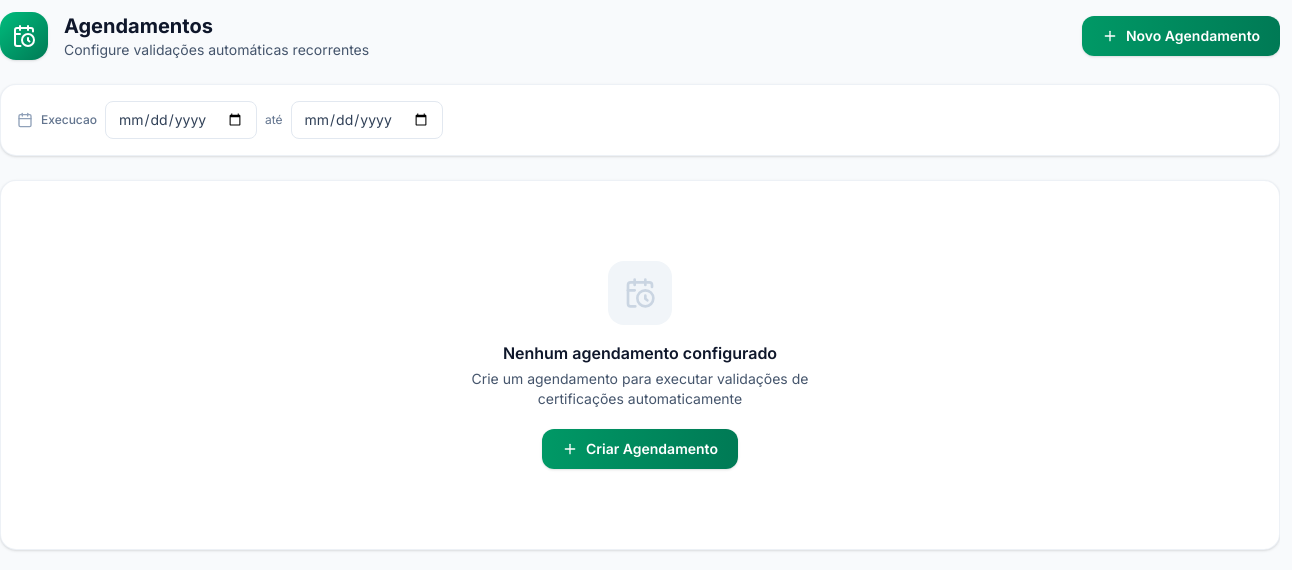
Test: CertAgendamentosPage › mostra estado vazio distinto (com limpar filtro) quando há filtro de período
Expected: the text "Nenhum agendamento configurado" is shown, [503,341,777,365]
Type "2026-01-01" into the 1st date field.
click(181, 120); type("2026-01-01")  # box [105,101,257,139]
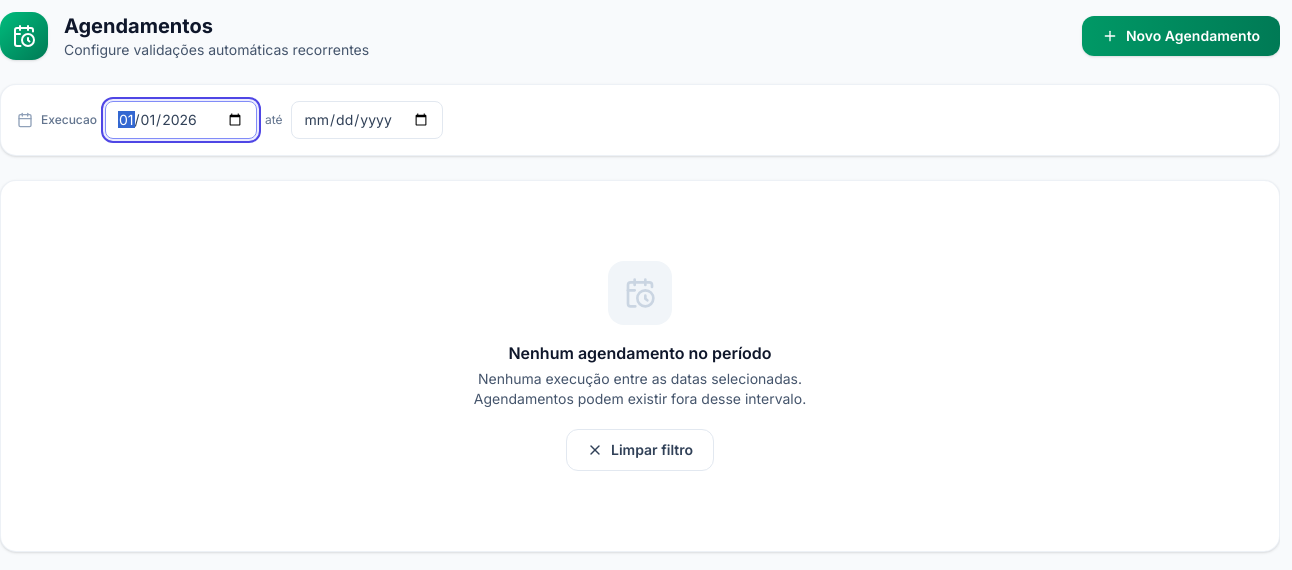
Expected: the text "Nenhum agendamento no período" is shown, [508,341,772,365]
Expected: the button "Limpar filtro" is shown, [566,429,714,471]
